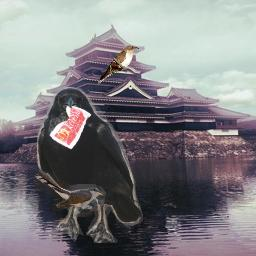Crow: (37, 87, 143, 243)
Cuckoo: (34, 171, 106, 217), (98, 45, 139, 84)
